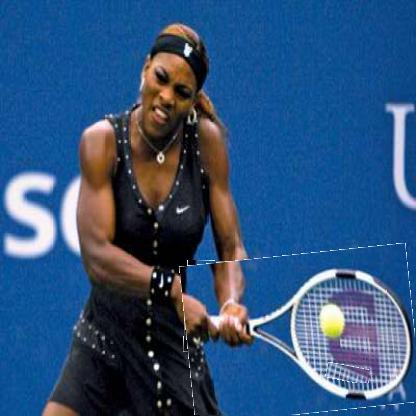tennis: (183, 248, 415, 415), (184, 261, 281, 355), (325, 364, 370, 383)
